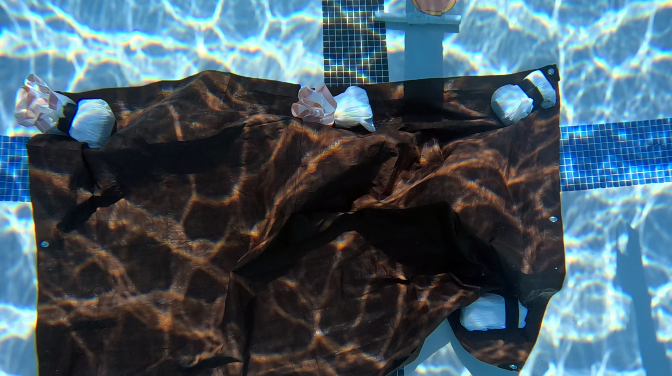pathmarker: (411, 0, 457, 15)
sandbag: (14, 64, 566, 375)
